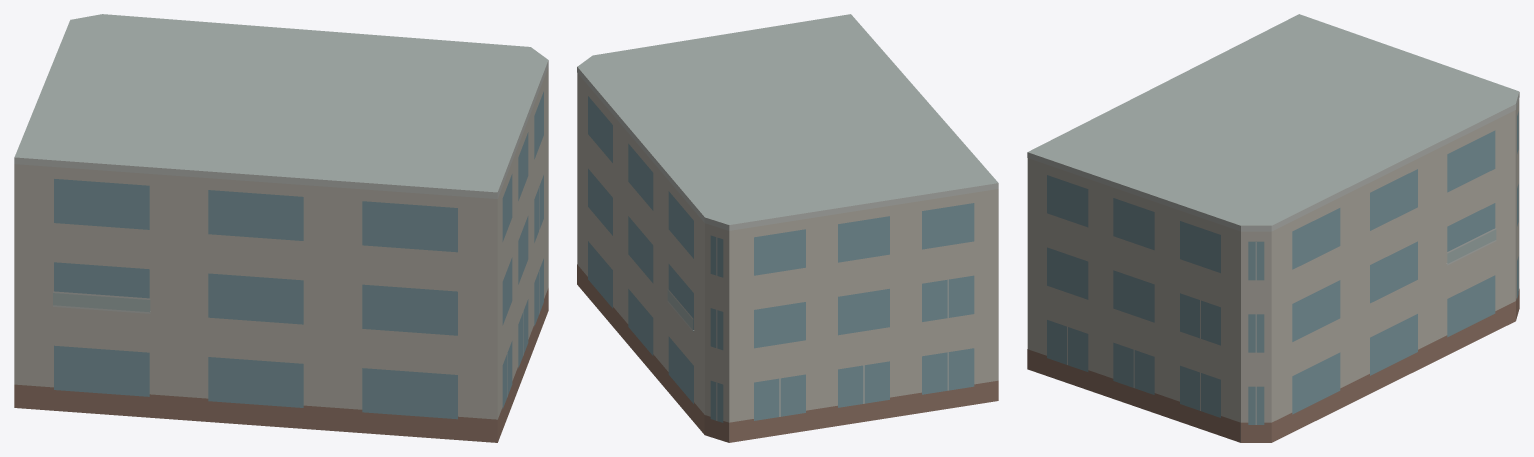
File: survey-upis-32674296.glb
The picture shows the model from 3 angles, left to right: view 1: azimuth 30°, elevation 25°; view 2: azimuth 150°, elevation 25°; view 3: azimuth 270°, elevation 25°; orthographic projection. The views are drawn at different scales.
Parts seen in each view (by area): view 1: survey-upis-32674296.tmp; view 2: survey-upis-32674296.tmp; view 3: survey-upis-32674296.tmp.
Part boxes in pixels (<box>): survey-upis-32674296.tmp: <box>14,14,548,442</box>; survey-upis-32674296.tmp: <box>577,14,998,442</box>; survey-upis-32674296.tmp: <box>1027,14,1519,442</box>.
Bounding box in the file's own units: 19.15 × 9.15 × 18.8.
